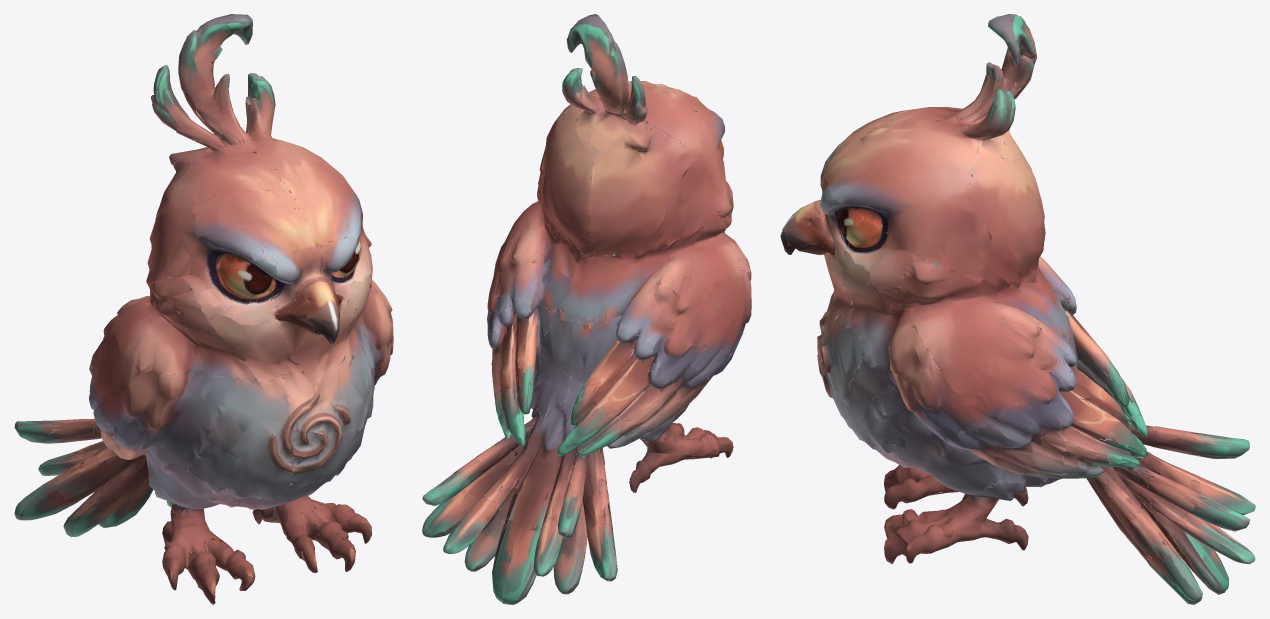
3 views of the same model, side by side, from view 1: azimuth 30°, elevation 25°; view 2: azimuth 150°, elevation 25°; view 3: azimuth 270°, elevation 25° (orthographic). The views are drawn at different scales.
Parts seen in each view (by area): view 1: Mesh_0; view 2: Mesh_0; view 3: Mesh_0.
Part boxes in pixels (x1=…): Mesh_0: x1=14, y1=14, x2=393, y2=604; Mesh_0: x1=422, y1=14, x2=751, y2=604; Mesh_0: x1=780, y1=14, x2=1255, y2=604.
Bounding box in the file's own units: 0.9012 × 1.9 × 1.41.
Materials: 1 (1 with a texture image).
